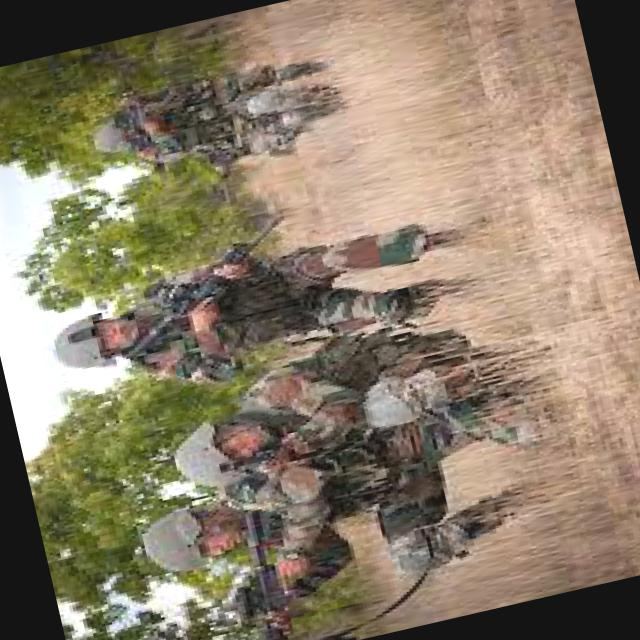long weapon: (92, 200, 300, 364), (218, 499, 334, 639)
